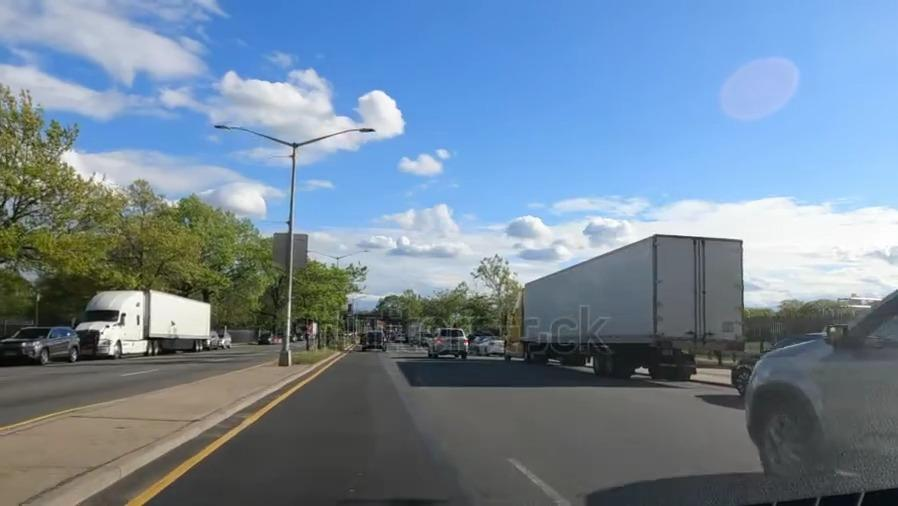car: (766, 296, 898, 457), (738, 323, 823, 394), (4, 330, 78, 359), (430, 327, 467, 358), (362, 332, 384, 351), (481, 337, 503, 355), (218, 332, 231, 350), (207, 332, 218, 348)
truck: (511, 238, 736, 367), (79, 292, 208, 356)
wheel: (755, 395, 809, 485)
